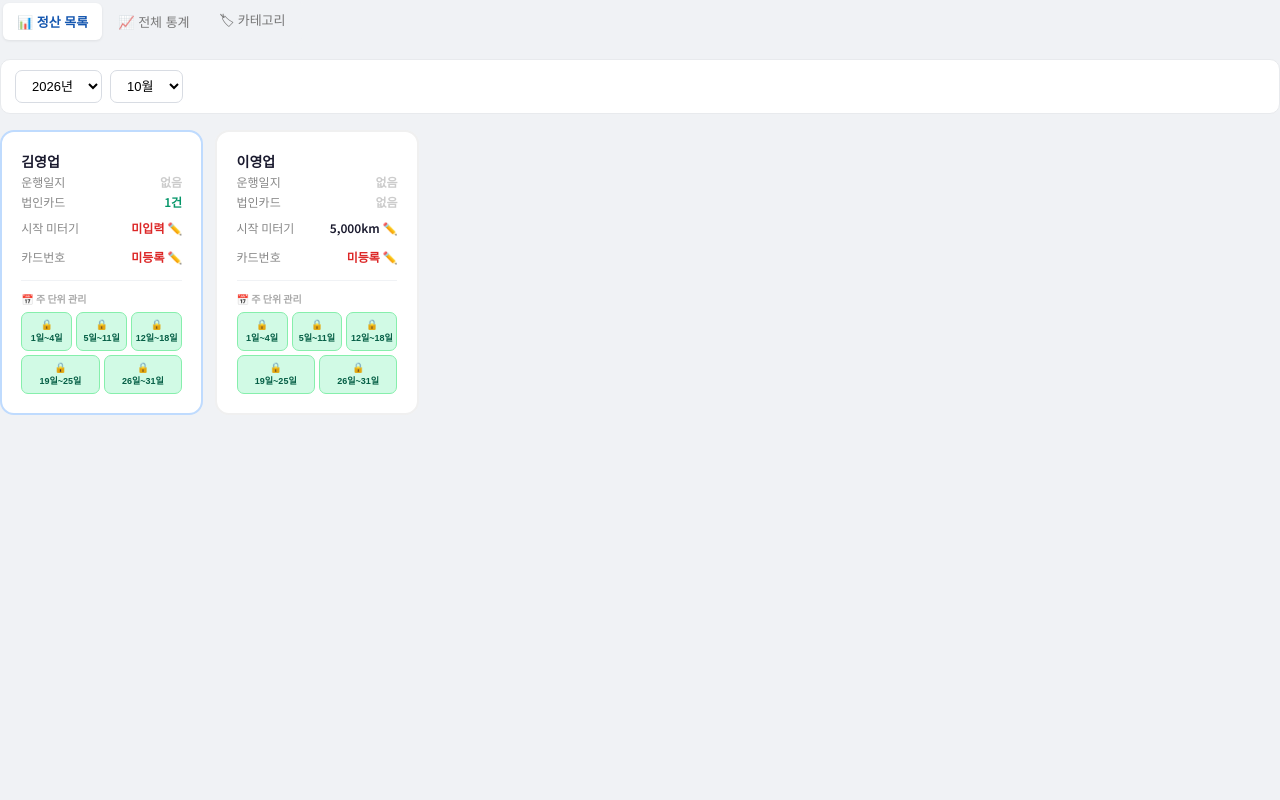
Test: 시작 미터기 › 관리자 – 사람 카드에서 시작 미터기 확인 · 수정
The image size is (1280, 800).
Expected: the text "미입력 ✏️" is shown, [131, 219, 182, 236]
Click the text "5,000km ✏️" at (364, 228), box [330, 219, 398, 236]
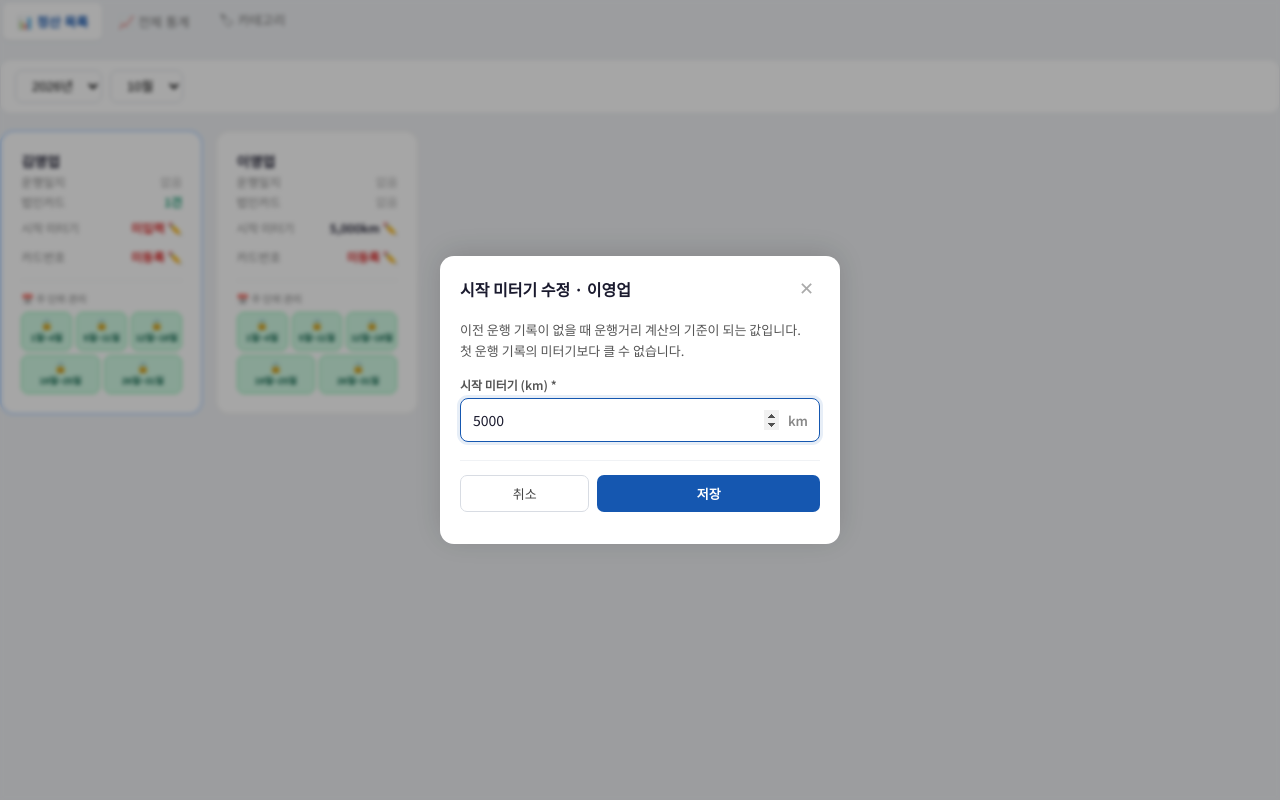
Expected: the heading "시작 미터기 수정 · 이영업" is shown, [460, 277, 631, 301]
Expected: the number field holds "5000"
Replace the text in the number field with "4800" at (640, 420), box [460, 398, 820, 442]
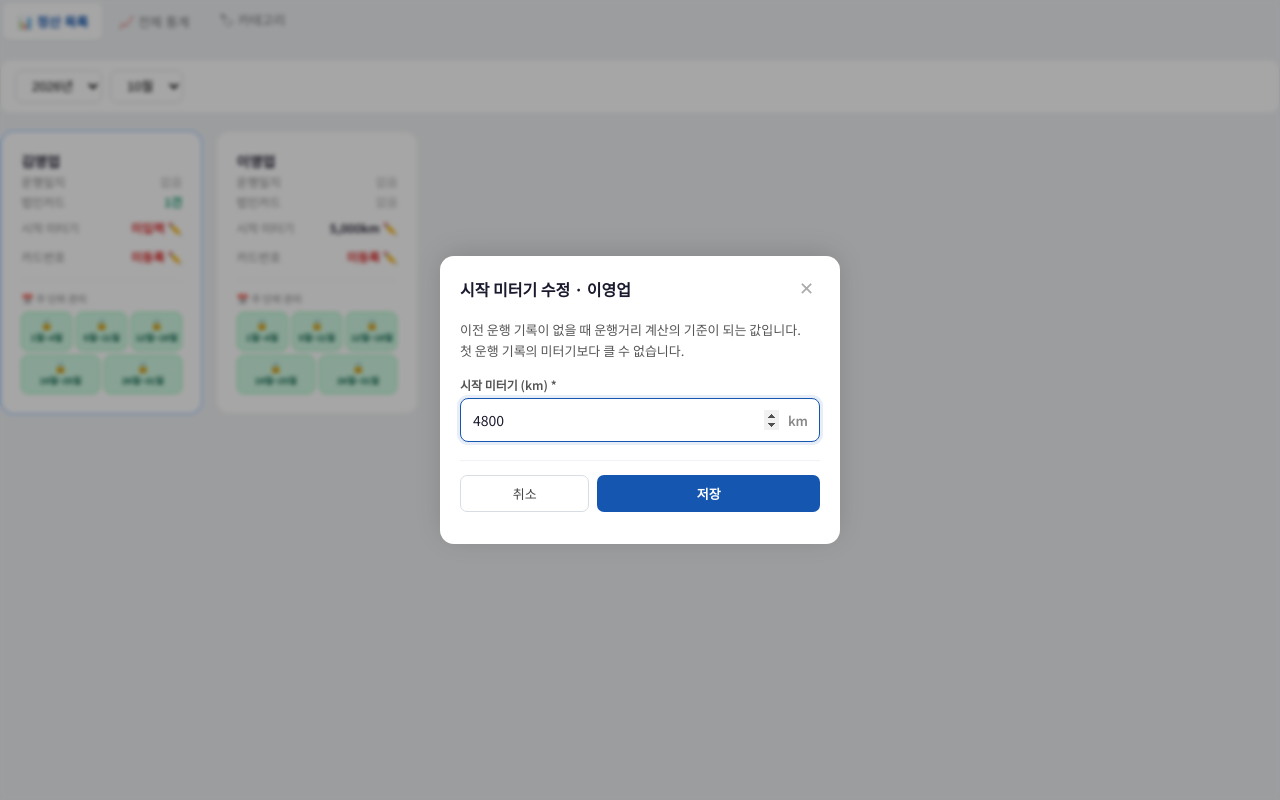
Submit the form, box [460, 320, 820, 512]
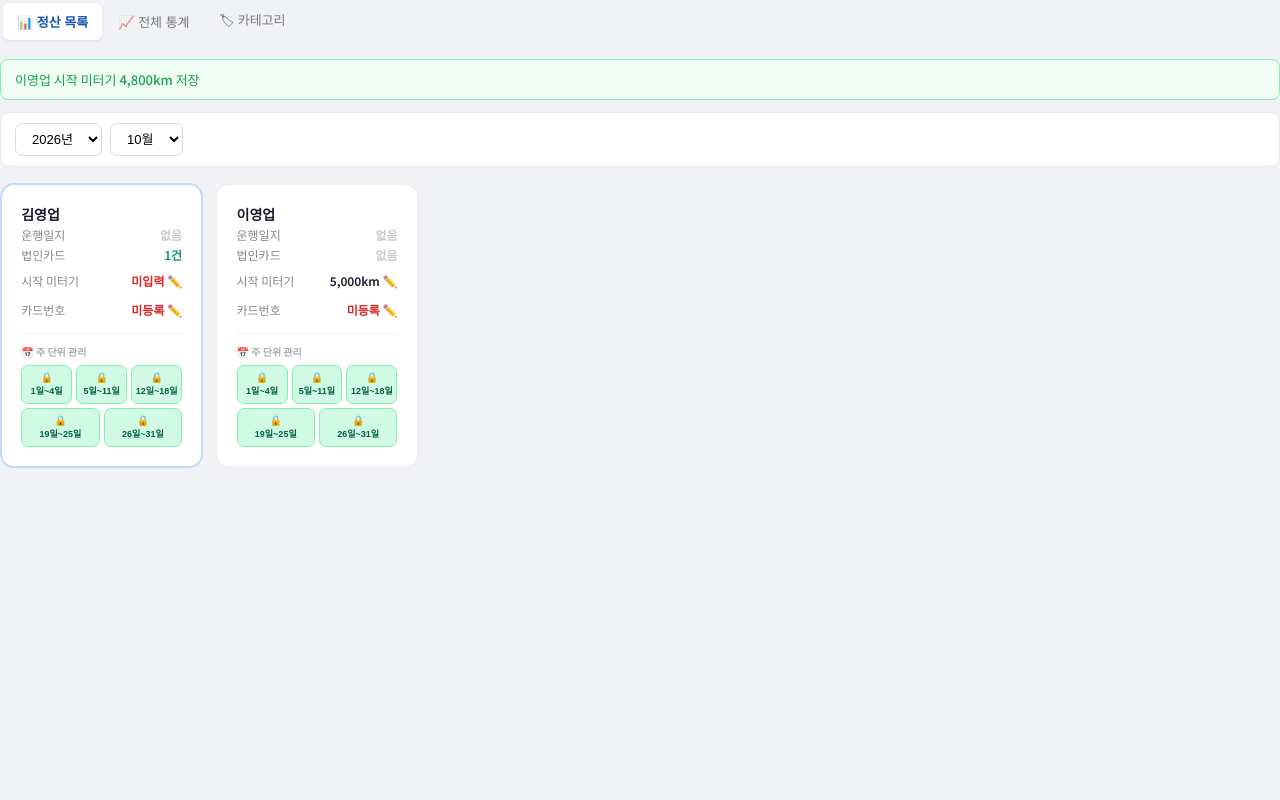
Expected: the element with class "sl-modal" is gone
Click the text "미입력 ✏️" at (157, 281), box [131, 272, 182, 289]
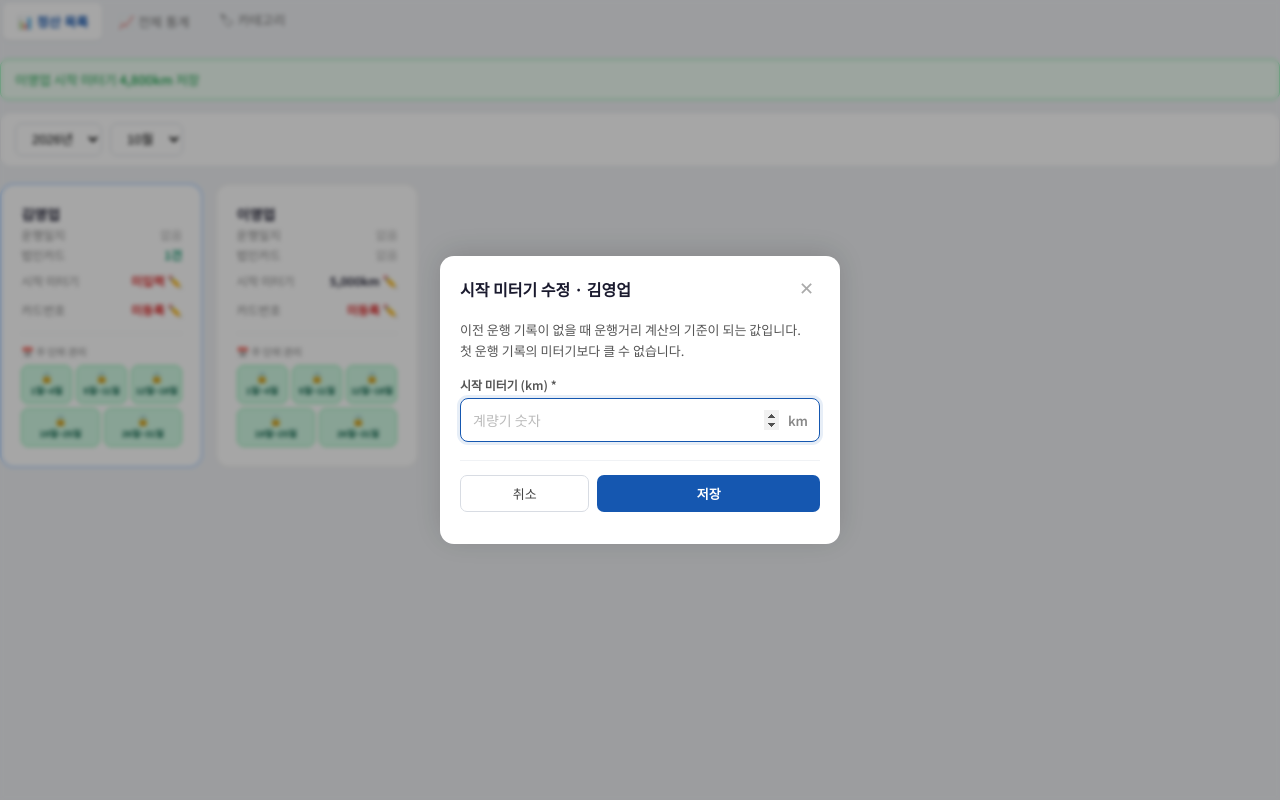
Click the button "취소" at (525, 493), box [460, 475, 589, 512]
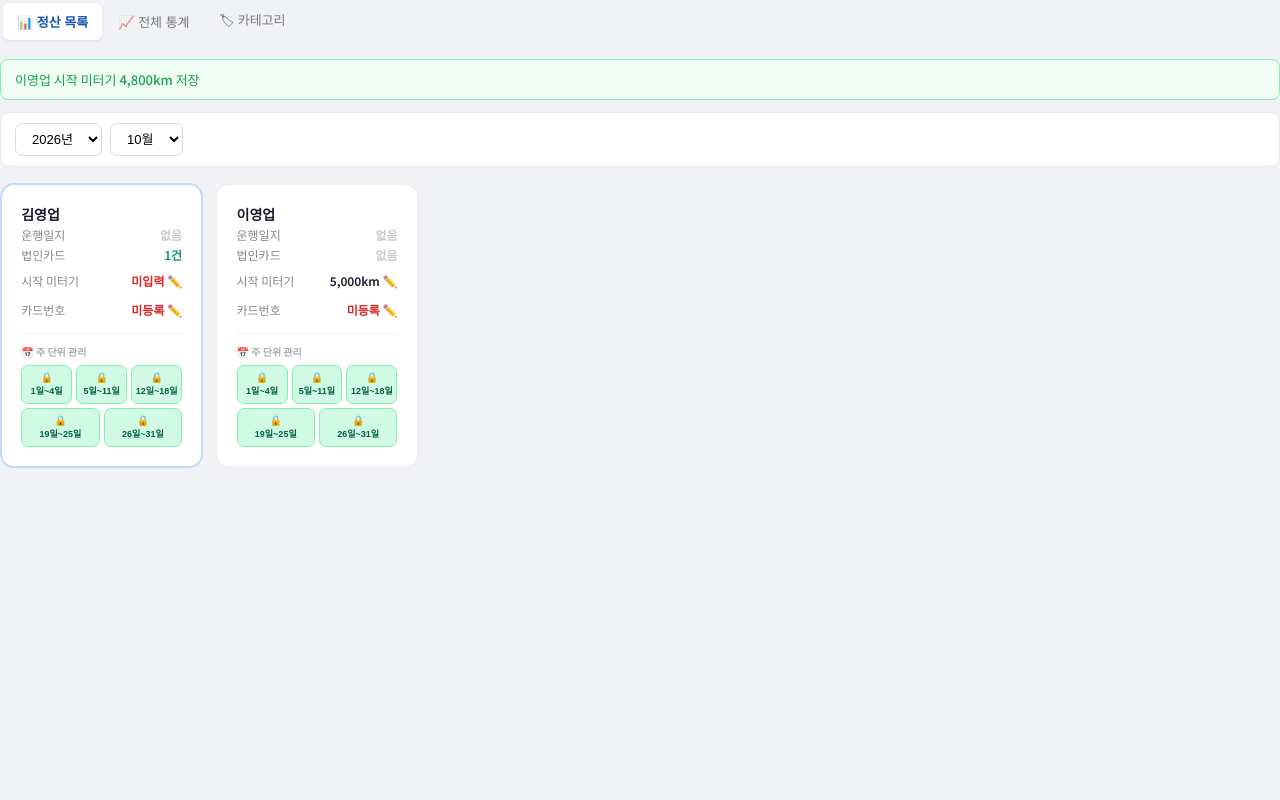
Expected: the element with class "sl-modal" is gone
